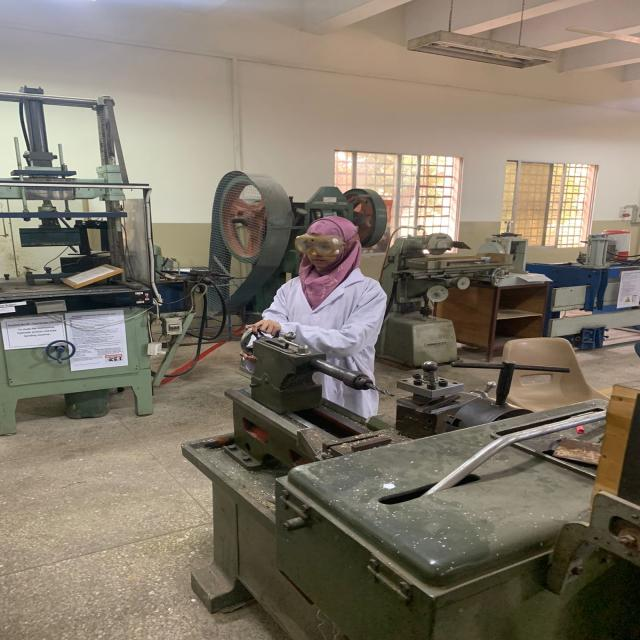googles: (294, 234, 342, 257)
labcoat: (260, 265, 390, 423)
